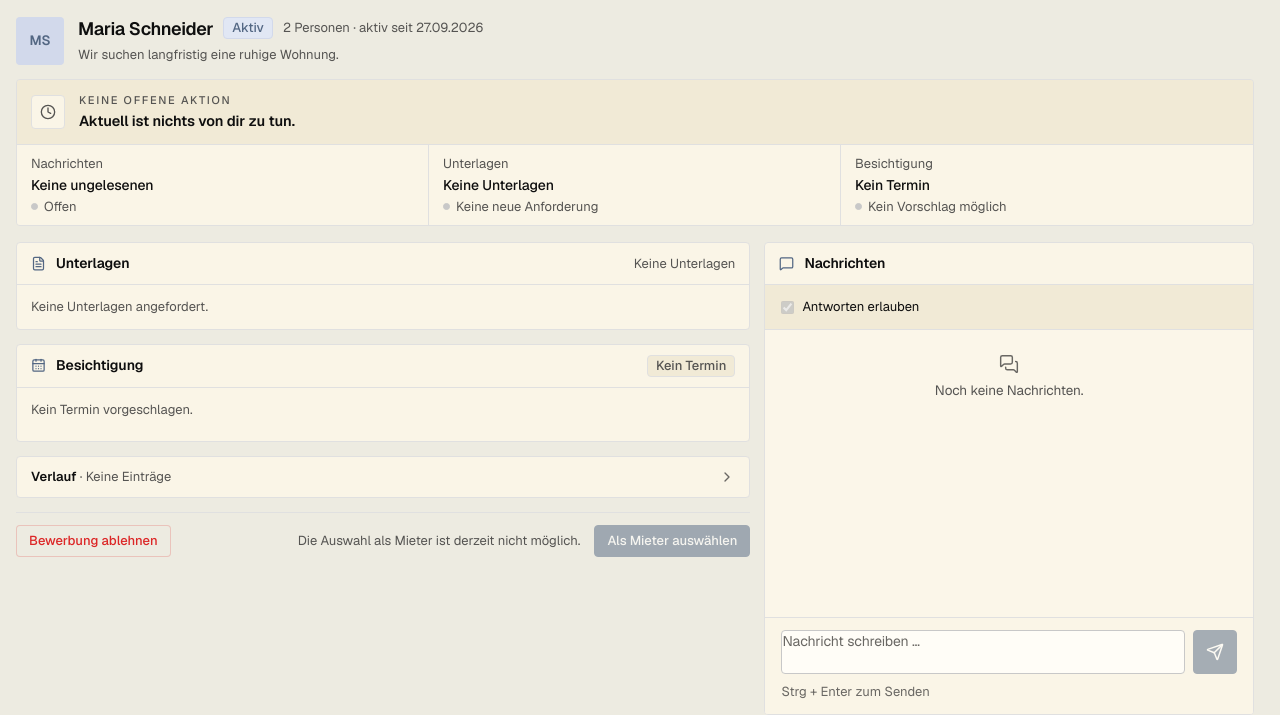
Test case: ApplicantWorkspaceView on wide viewports › keeps the message draft and shows an error when sending fails
(page scrolled)
Type "Hallo" into the text box named "Nachricht an Maria Schneider".
click(983, 652); type("Hallo")  # box top-left (781, 630), bottom-right (1185, 674)
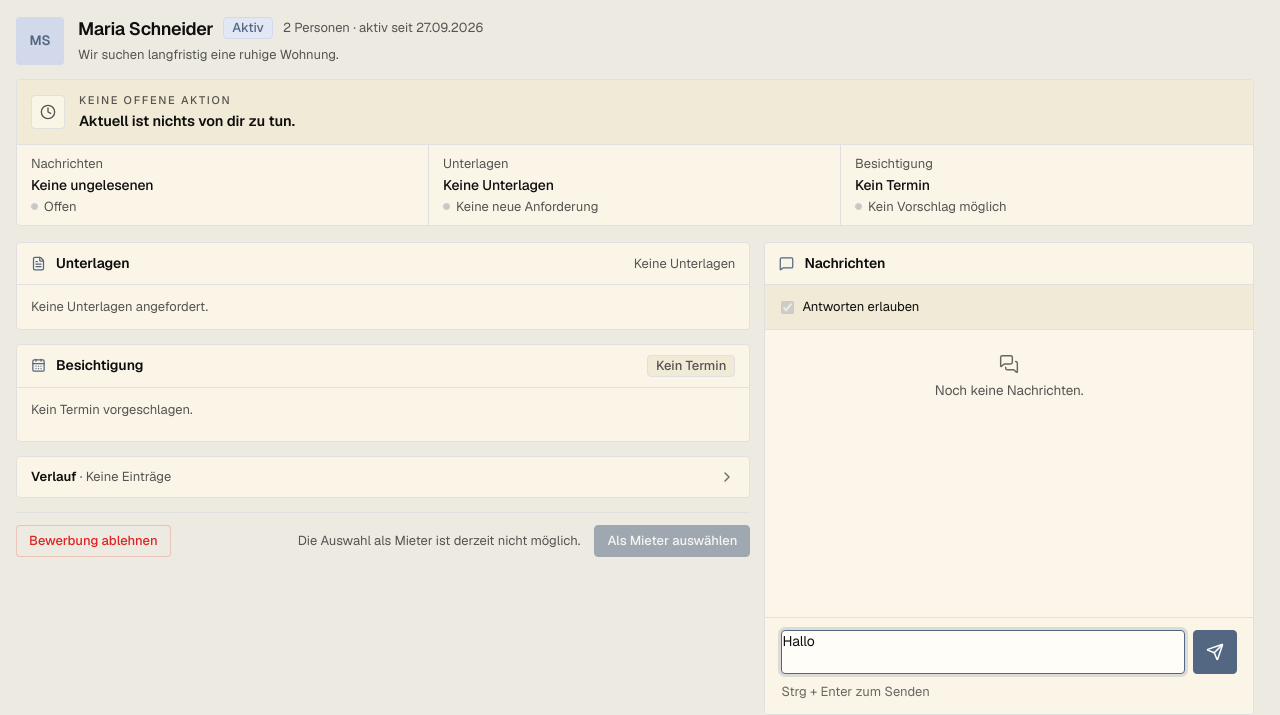
Click the button named "Senden".
click(1215, 652)  # box top-left (1193, 630), bottom-right (1237, 674)
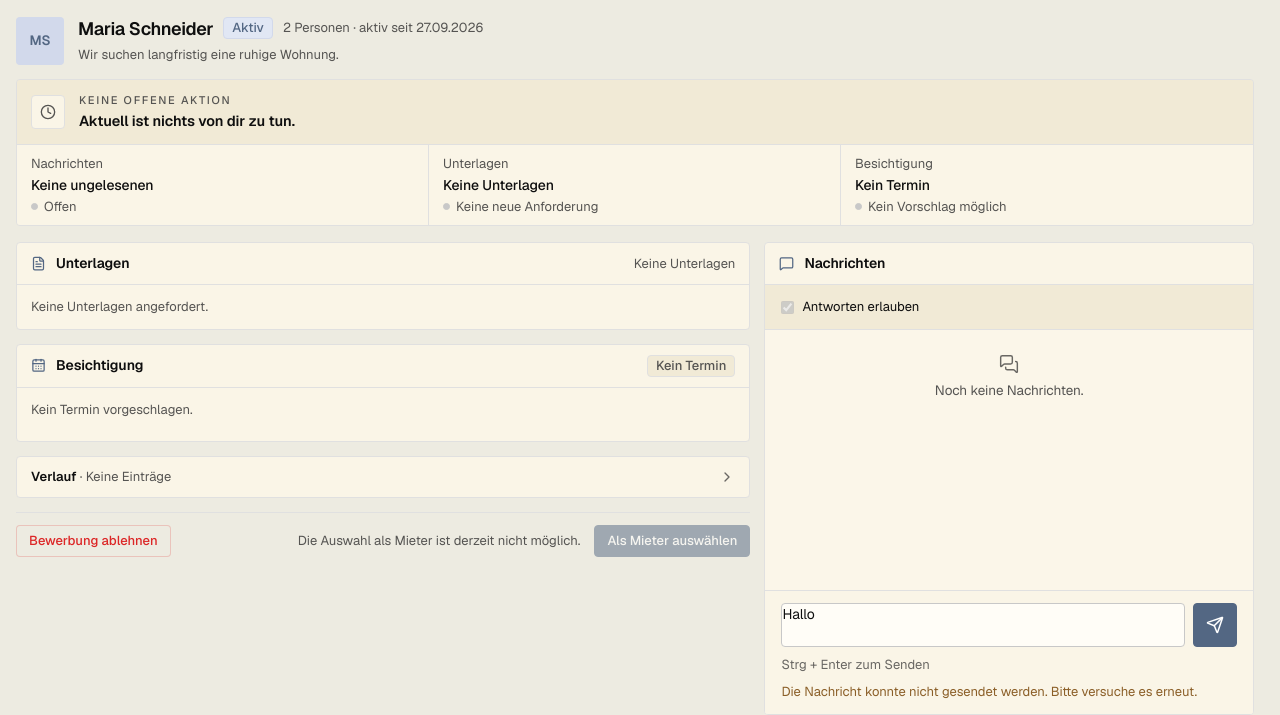
expect the text "Die Nachricht konnte nicht gesendet werden. Bitte versuche es erneut." is shown: met, box top-left (781, 682), bottom-right (1237, 702)
